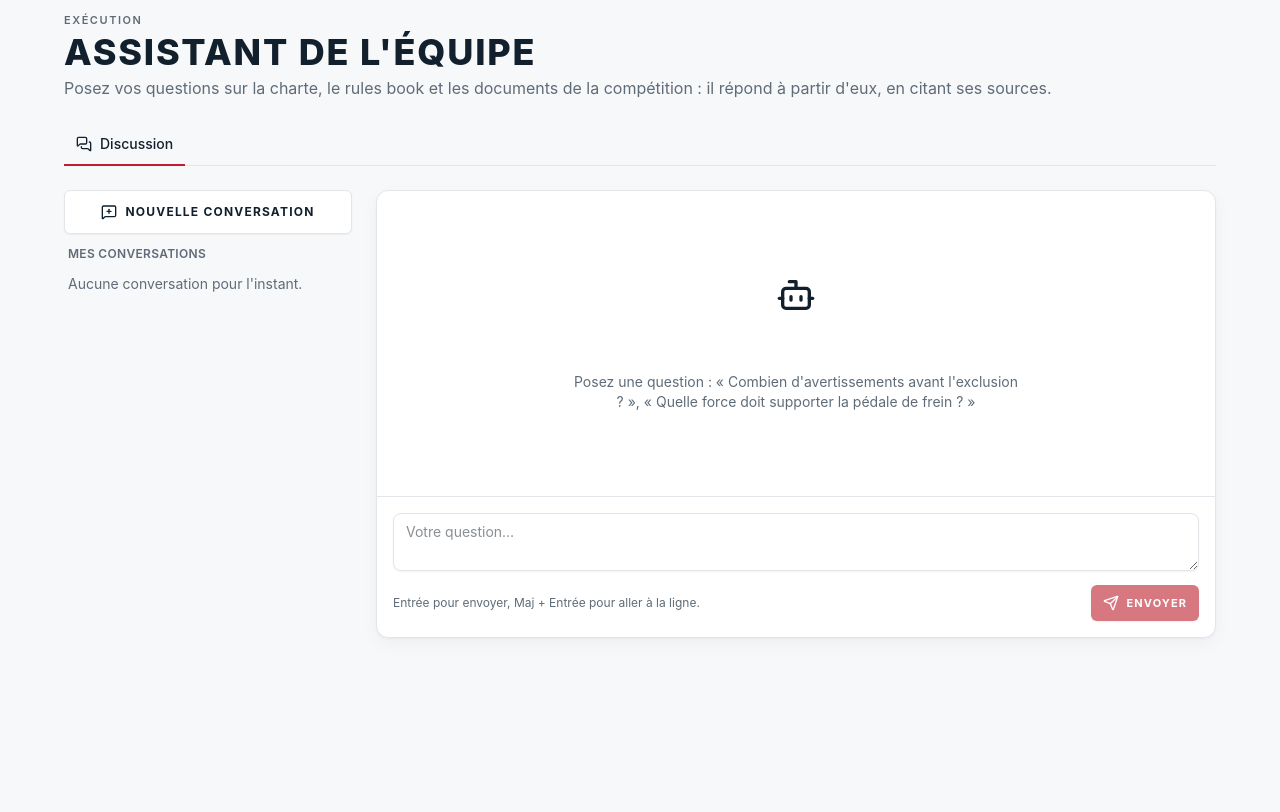
Scenario: AssistantPage › asks a question and shows the answer with its sources
Expected: the text "Aucune conversation pour l'instant." is shown, x1=68 y1=275 x2=302 y2=292
In the text box labelled "Votre question": [796, 542] box x1=393 y1=513 x2=1199 y2=571, type "Combien d'avertissements avant l'exclusion ?"
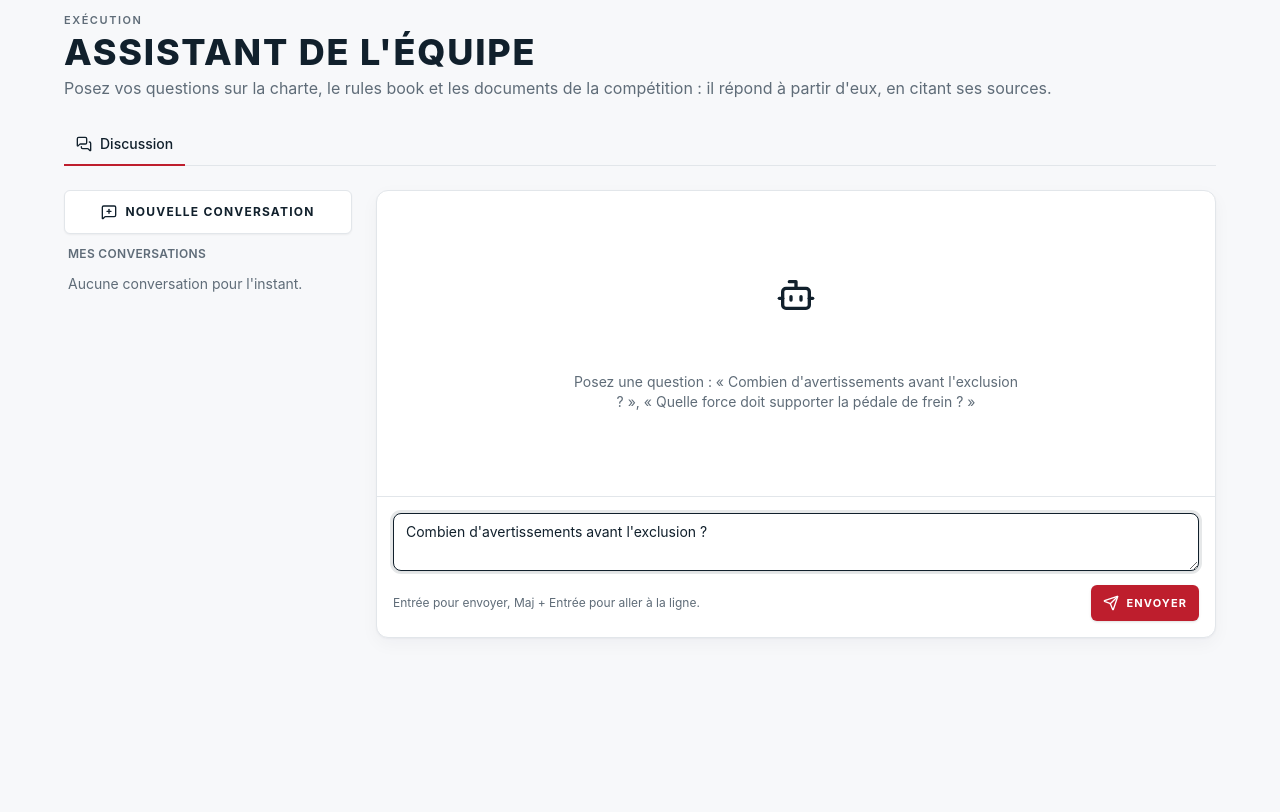
Click the button "Envoyer": [1145, 603] box x1=1090 y1=585 x2=1199 y2=621
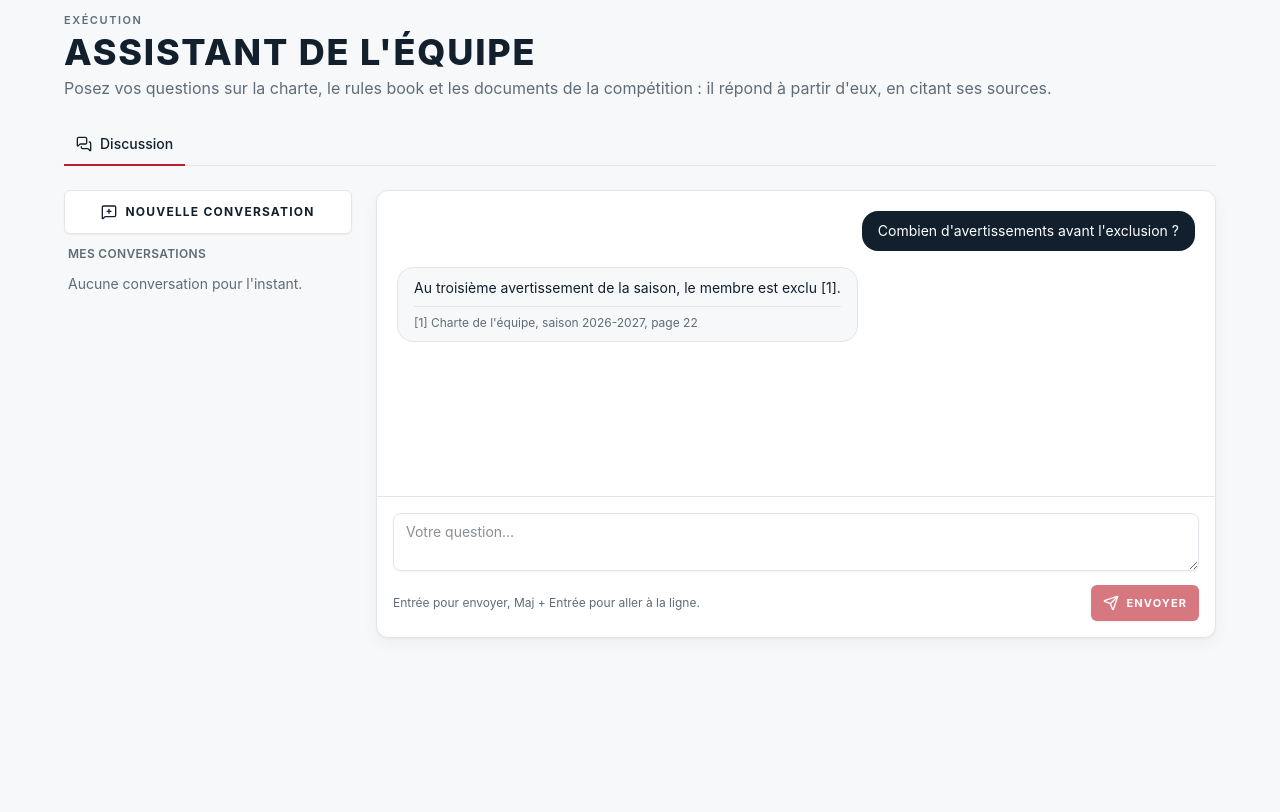
Now the text "Au troisième avertissement de la saison" is shown, box x1=414 y1=279 x2=841 y2=296
Now the list item "[1] Charte de l'équipe, saison 2026-2027, page 22" is shown, box x1=414 y1=315 x2=698 y2=330
